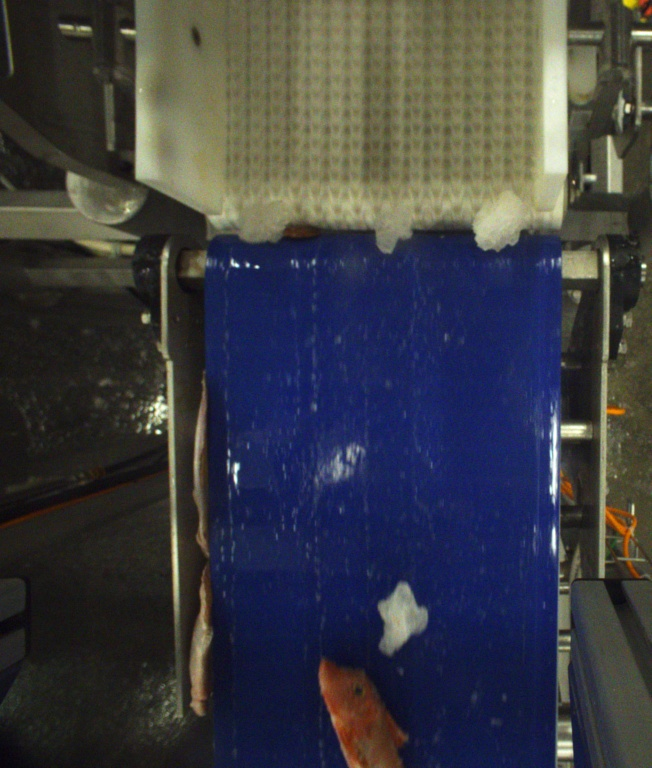GUU: (316, 656, 407, 768)
